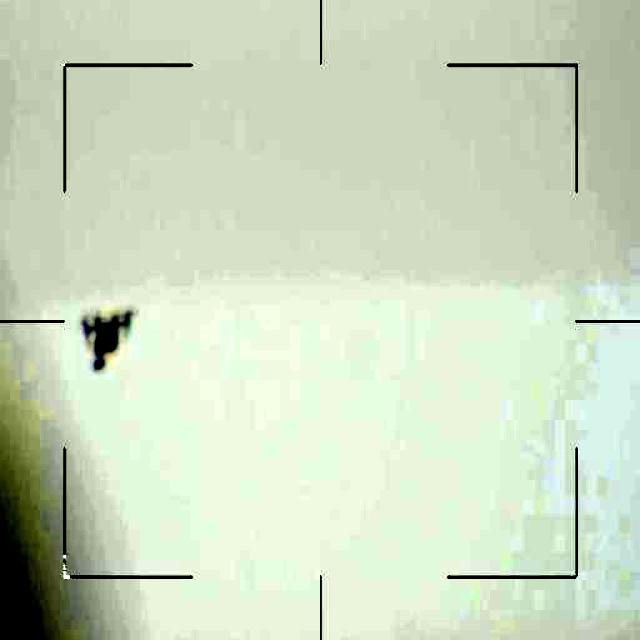bird: (74, 310, 144, 374)
